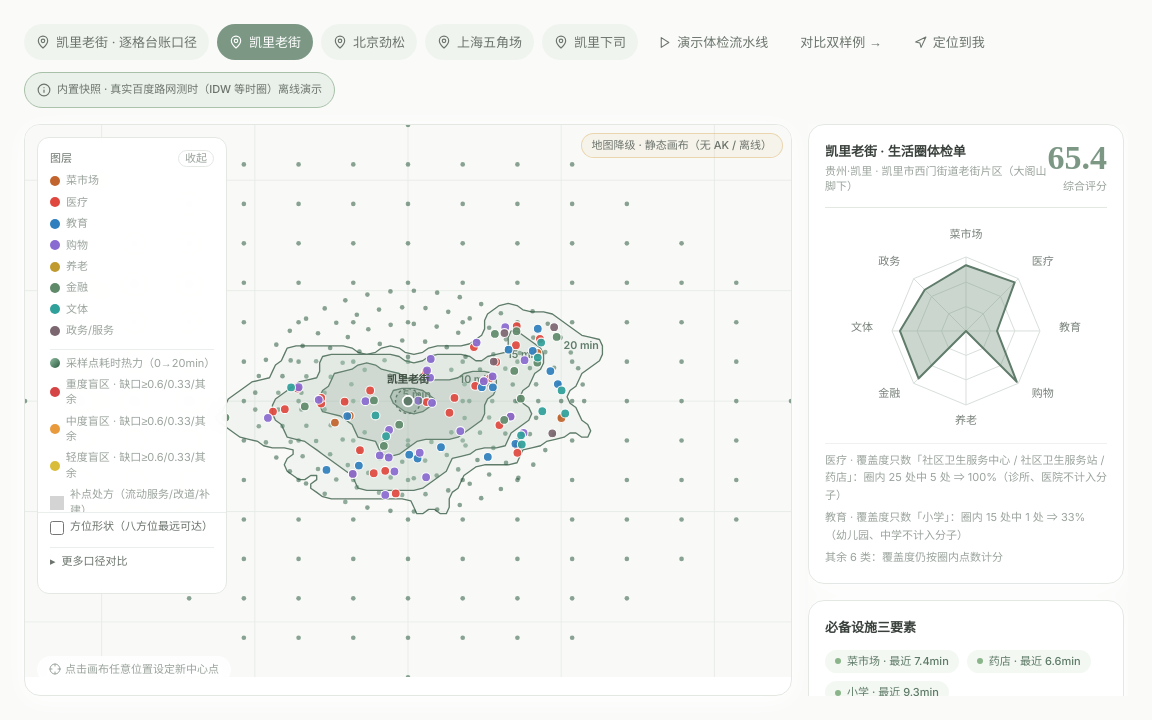
LifeCirclePage（fixture 态） › 画布点选设定新中心点 → 出现「重新体检」按钮（D2 交互，降级画布）
Click the picture named "生活圈等时圈画布".
click(408, 401)  # box [25,125,791,677]
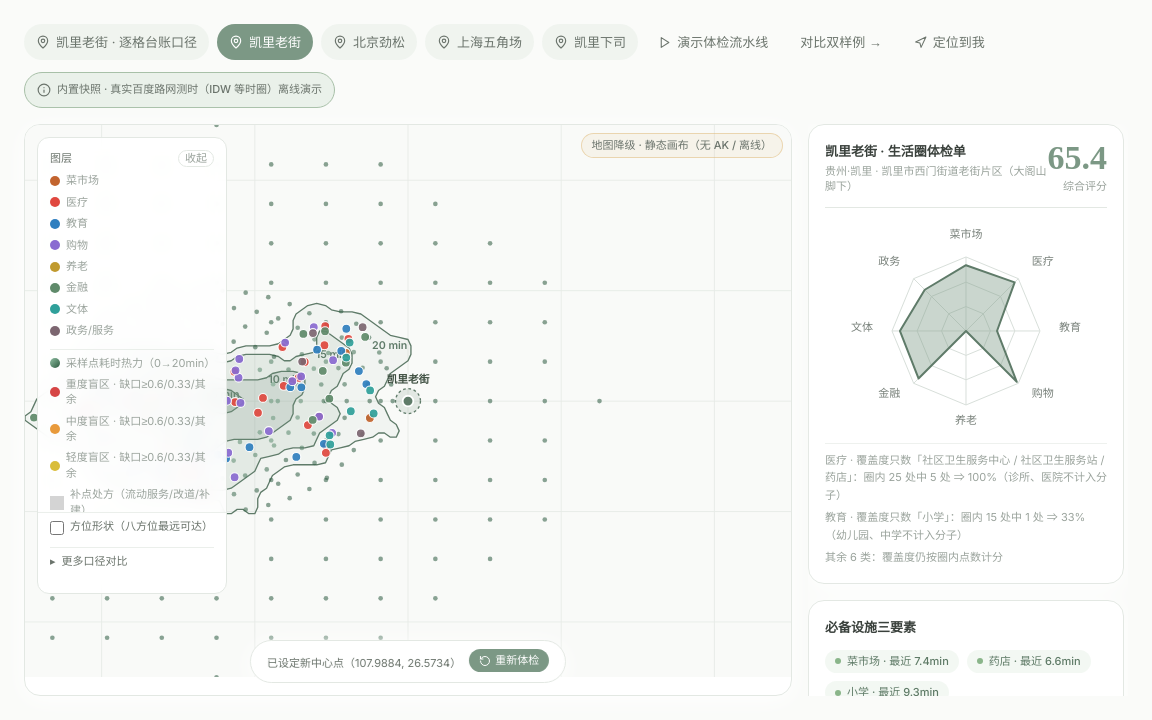
expect the button "重新体检" is shown: met, box [469,649,549,672]
